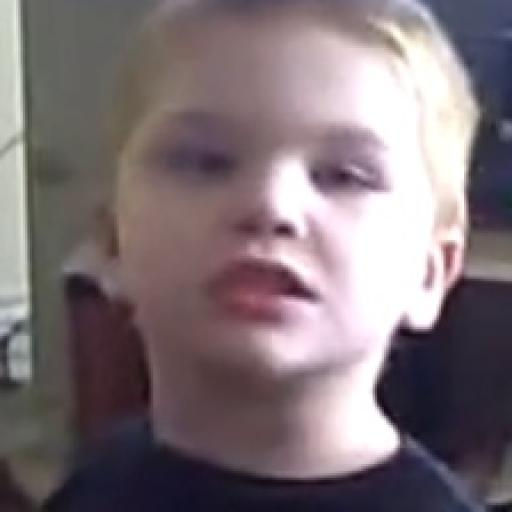Autism: (74, 2, 496, 420)
